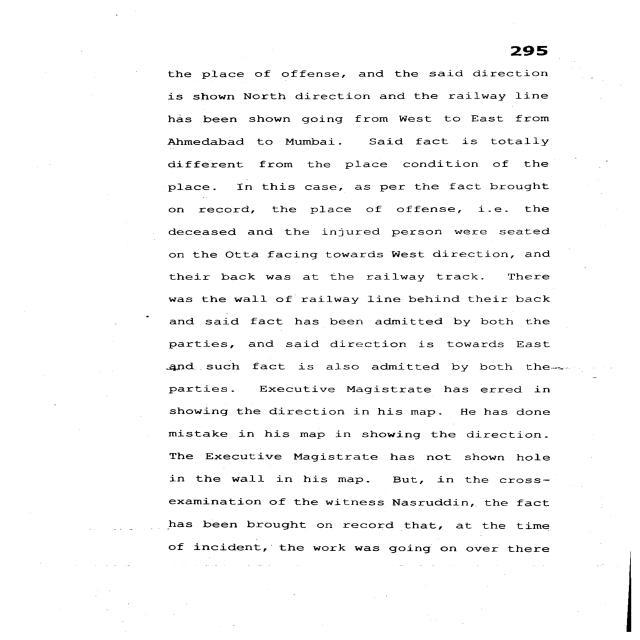page-number: (423, 0, 639, 62)
